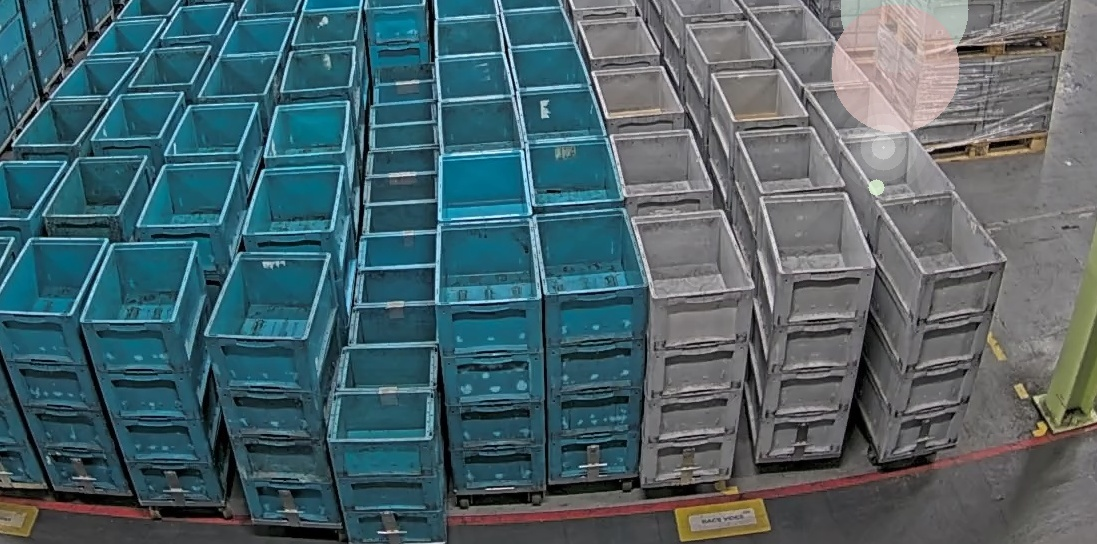4G: (858, 190, 1009, 462), (742, 194, 876, 462), (631, 208, 756, 485)
B4: (80, 241, 232, 501), (202, 251, 339, 523), (0, 236, 134, 496), (535, 207, 649, 484), (435, 218, 543, 495)
B8: (326, 345, 445, 542)
